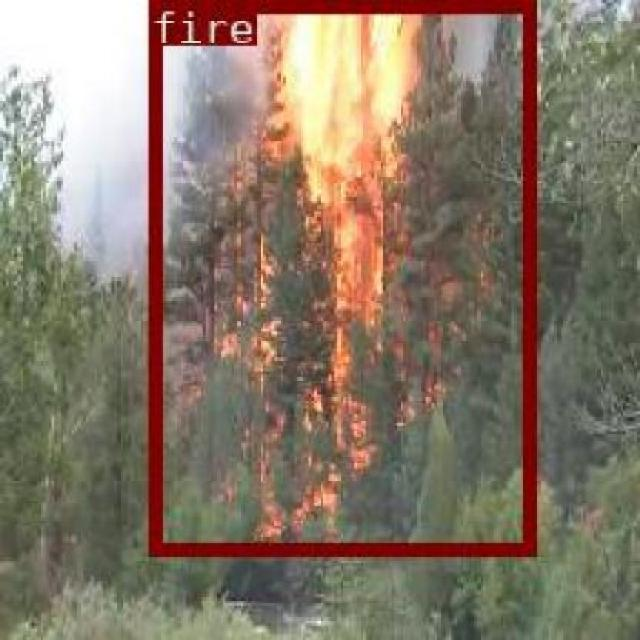Fire: (144, 0, 530, 551)
